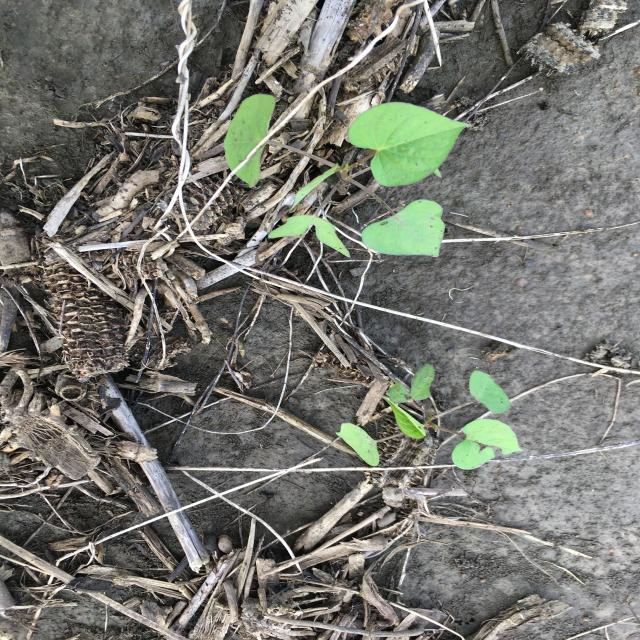MorningGlory: (221, 92, 475, 260), (333, 363, 527, 471)
